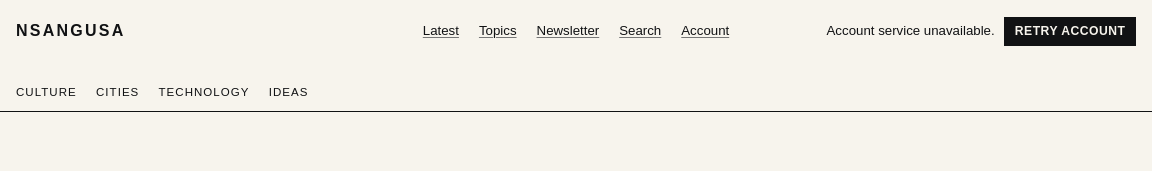
Scenario: SiteHeader › distinguishes a session-service failure from being signed out and allows retry
This screenshot has width=1152, height=171.
Click the button "Retry account" at (1070, 31), box [1004,17,1136,46]
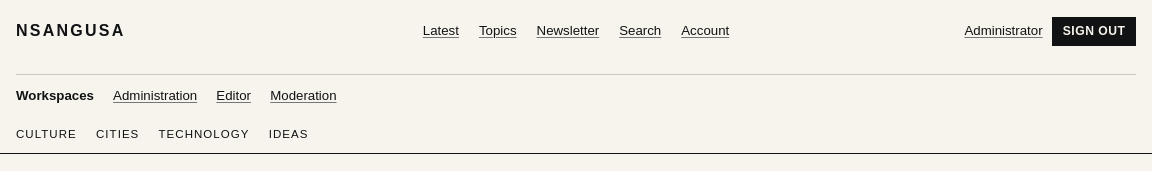
Check: the link "Administration" is shown, box [113,86,197,106]
